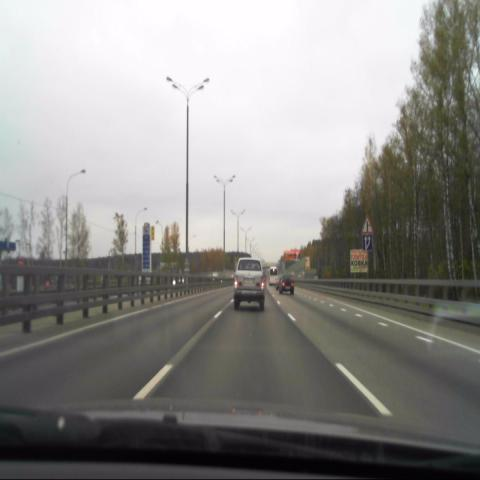2_3_2: (360, 215, 374, 233)
5_15_3: (363, 235, 372, 251)
